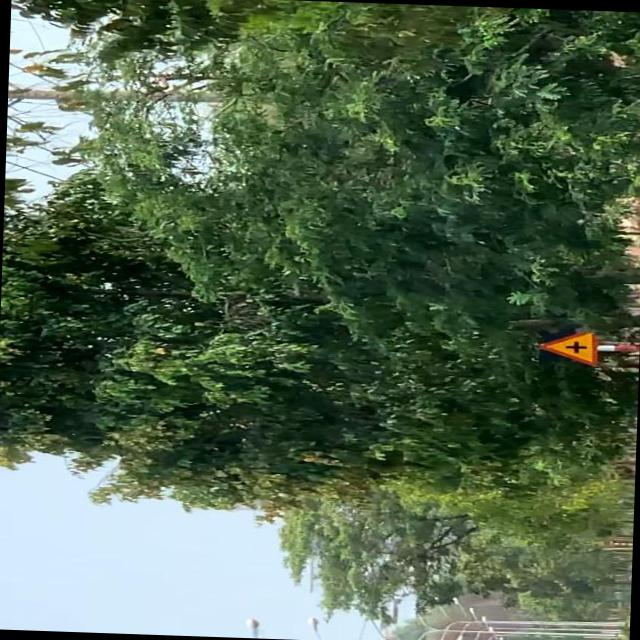W-205a: (536, 328, 597, 364)
